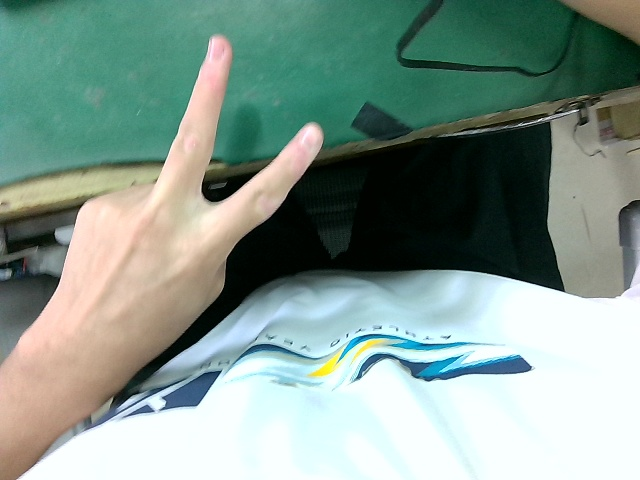scissor: (54, 24, 329, 363)
